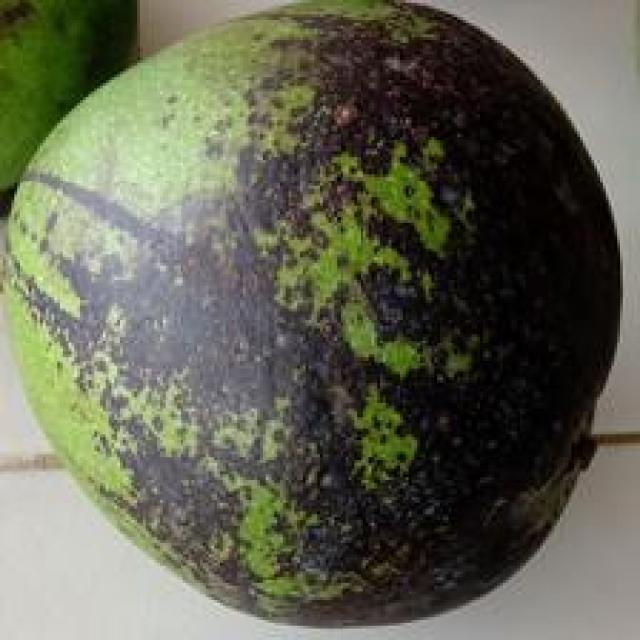Mango: (5, 5, 627, 620)
